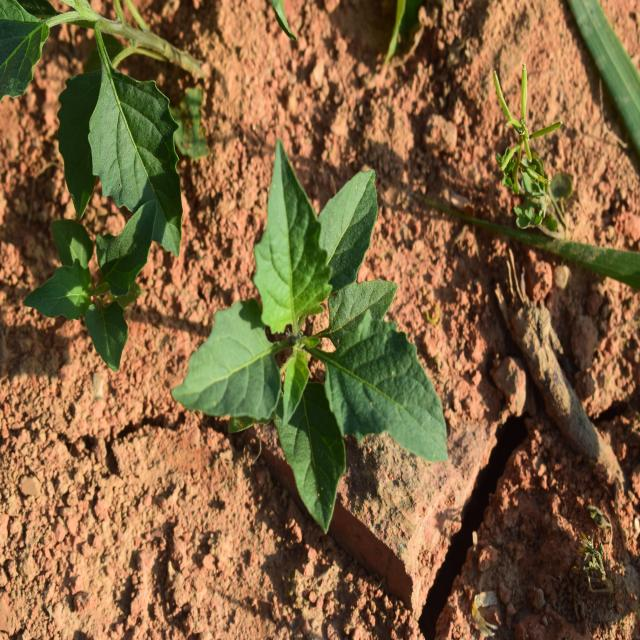Black_nightshade: (196, 123, 431, 521)
